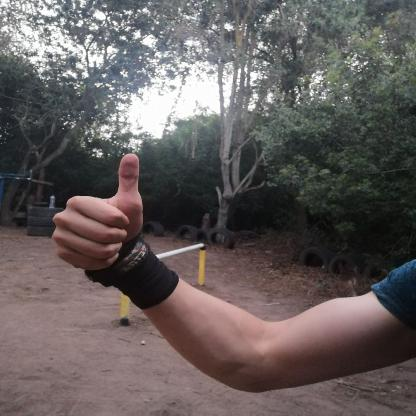ALIF: (38, 148, 170, 281)
